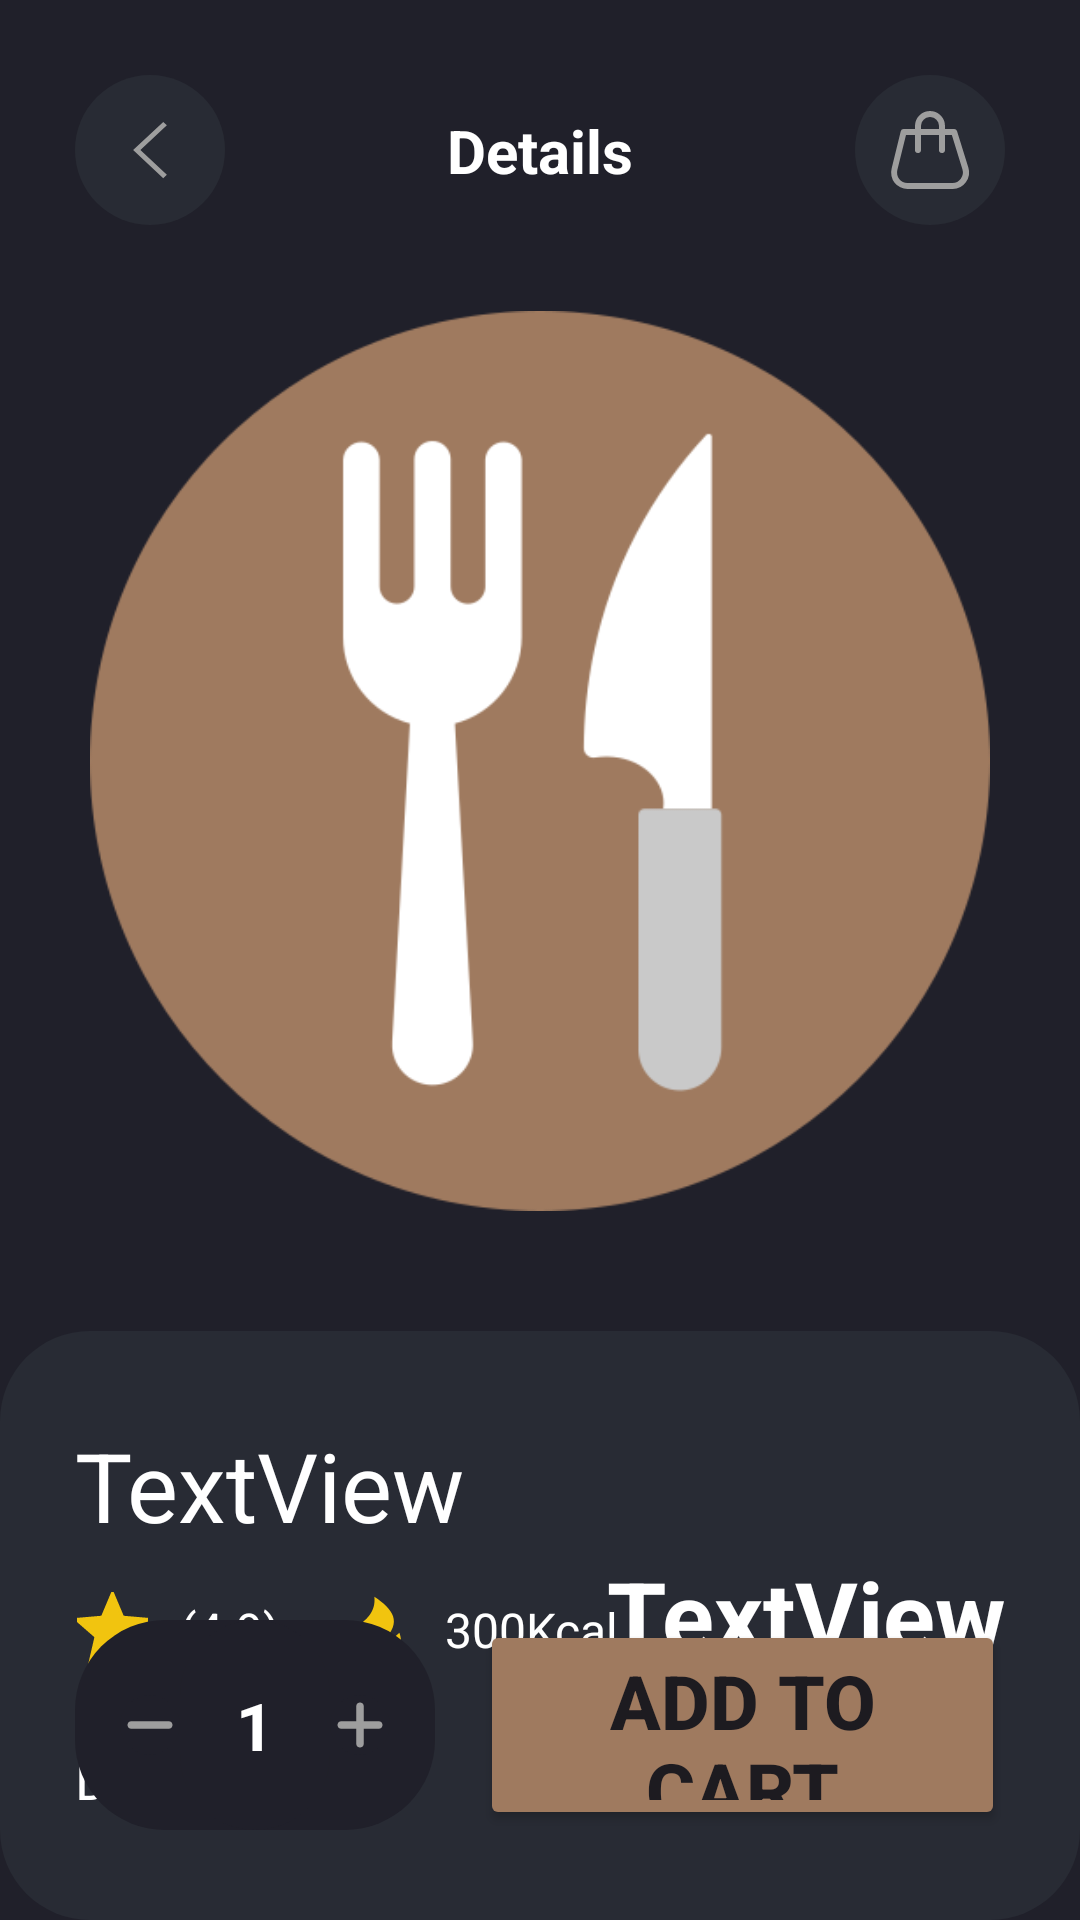

Icons on this 1080×1920 Android screen, each with the point to tap as (x=x, y=y):
left arrow: (x=150, y=150)
minus round: (x=150, y=1725)
plus round: (x=360, y=1725)
